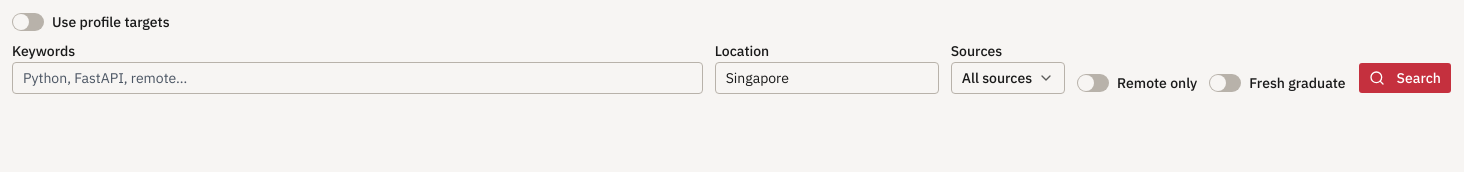
SearchBar use profile targets › prefills keywords and location when the switch is enabled
This screenshot has width=1464, height=172.
Click the switch named "Use profile targets" next to "Use profile targets" at point(28, 22), box [12, 13, 44, 31]
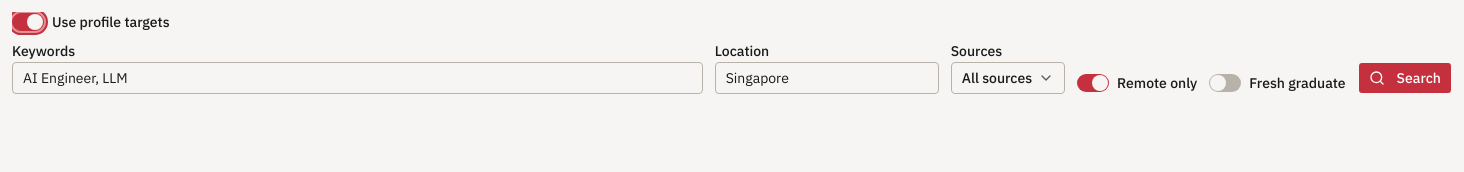
Check: the field labelled "Location" holds "Singapore", box [715, 62, 939, 94]
Check: the field labelled "Keywords" holds "AI Engineer, LLM", box [12, 62, 703, 94]
